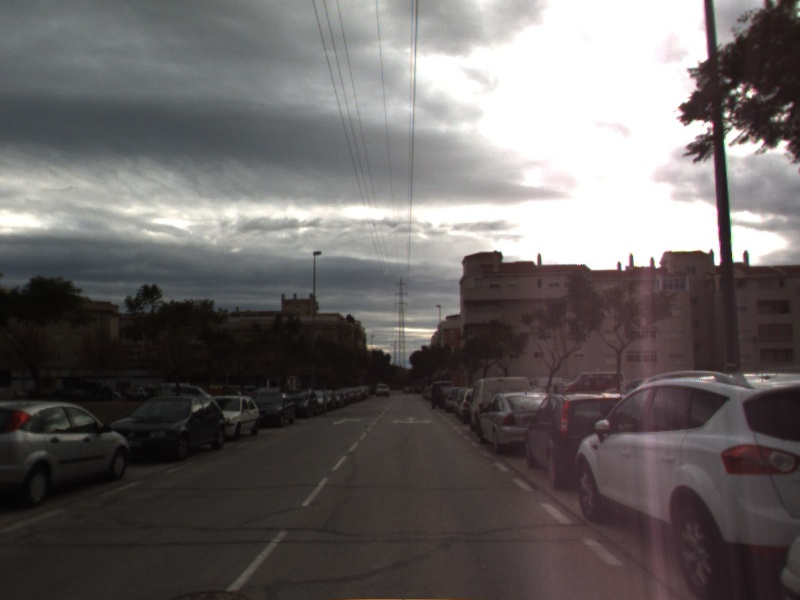STRAIGHT_LEFT_RIGHT: (389, 415, 435, 426)
